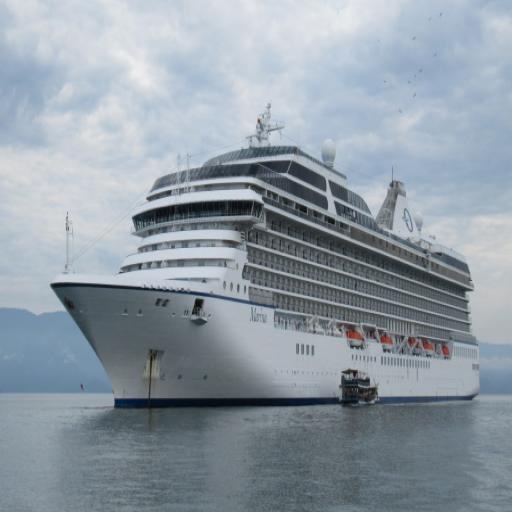cruises: (46, 97, 485, 419)
